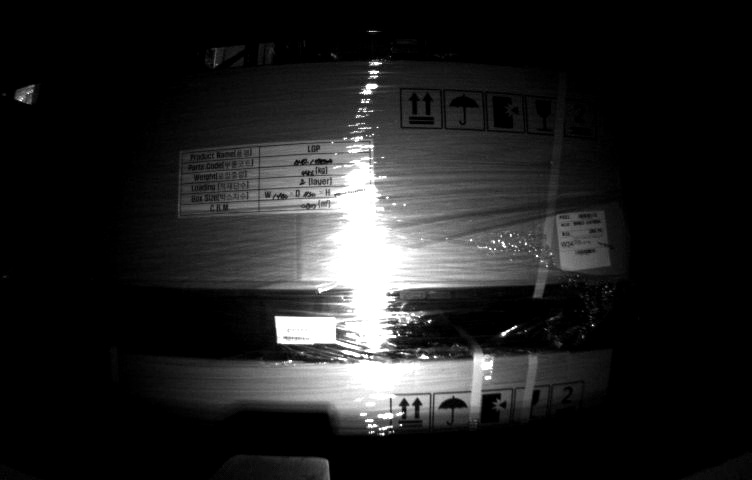True Barcode: (556, 208, 609, 271)
